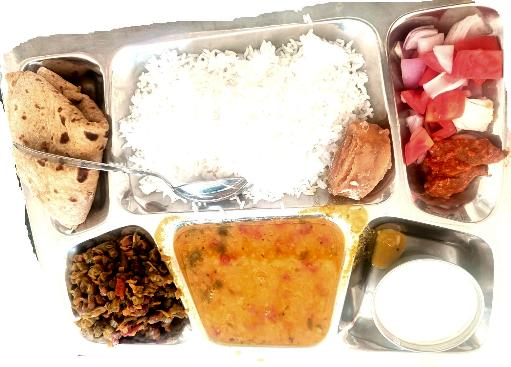Curd: (368, 249, 494, 360)
Dal: (177, 217, 347, 352)
Pickle: (428, 132, 497, 218)
Rice: (116, 26, 369, 211)
Roti: (2, 51, 110, 238)
Salad: (388, 6, 511, 131)
Sweet: (316, 123, 386, 211)
Vegetable: (62, 231, 173, 361)
